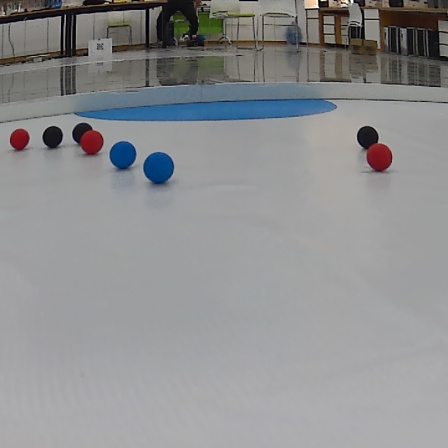black: (353, 123, 379, 148), (39, 126, 63, 152), (70, 123, 92, 145)
blue: (144, 150, 175, 188), (111, 141, 136, 174)
blue_base: (78, 95, 347, 120)
red: (367, 144, 393, 170), (80, 132, 105, 157), (6, 127, 30, 153)
